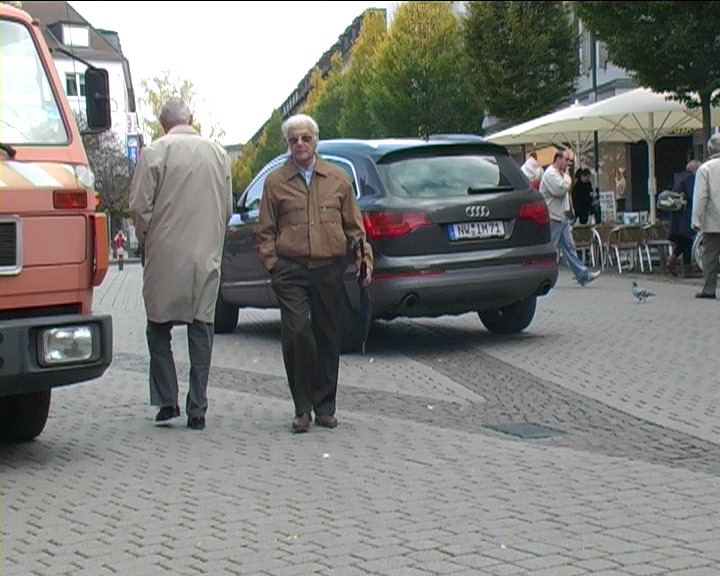undeflect: (268, 110, 358, 205)
